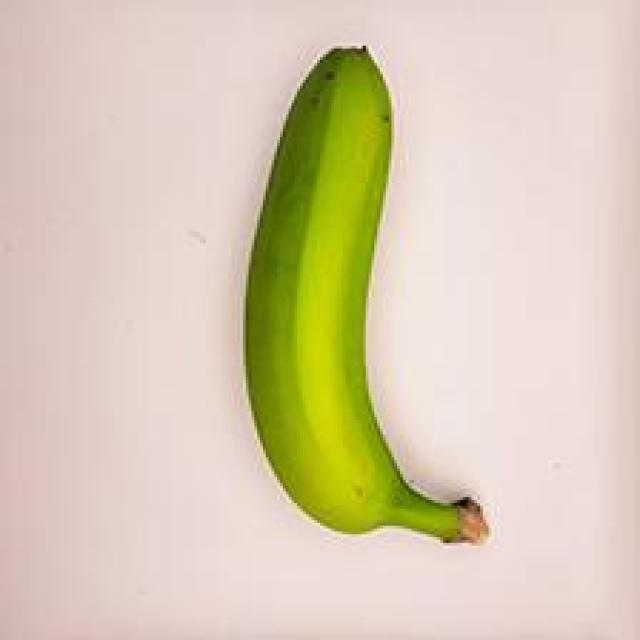Unripe: (208, 26, 519, 564)
